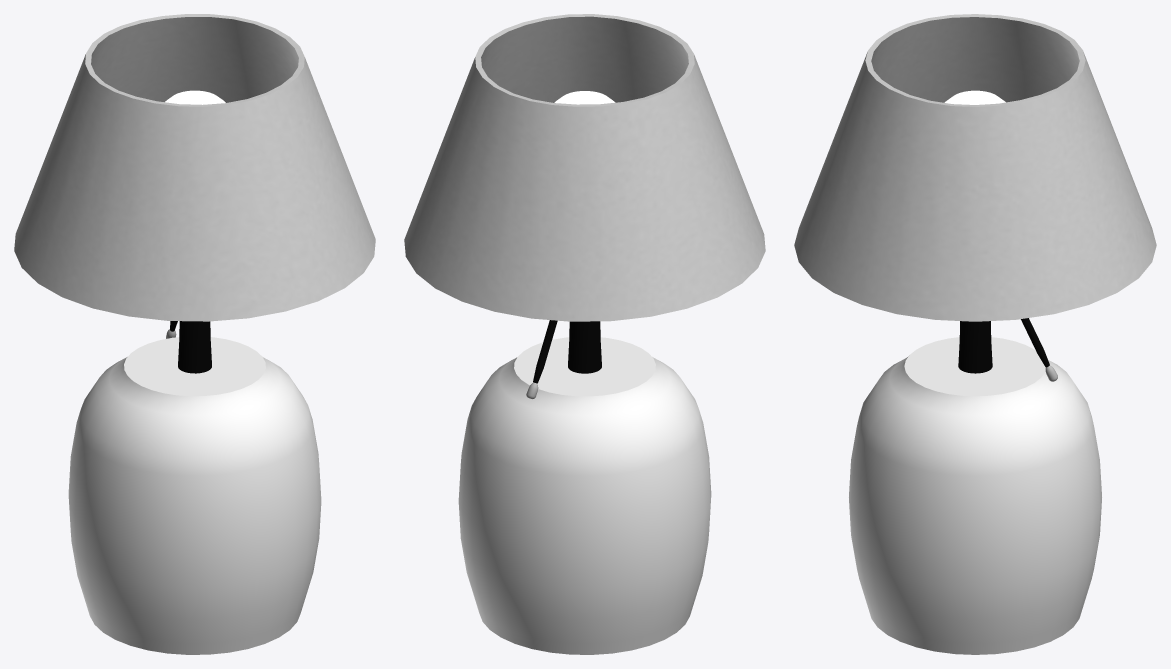
File: bedside_table_lamp.glb
3 views of the same model, side by side, from view 1: azimuth 30°, elevation 25°; view 2: azimuth 150°, elevation 25°; view 3: azimuth 270°, elevation 25° (orthographic).
Parts seen in each view (by area): view 1: Cylinder.001, Cylinder, Cylinder.002, Cylinder.003; view 2: Cylinder.001, Cylinder, Cylinder.002, Cylinder.004, Cylinder.003; view 3: Cylinder.001, Cylinder, Cylinder.002, Cylinder.003, Cylinder.004.
Boxes of the visible parts, box(x1,y1,x2,y2) form: Cylinder.001: box(14, 14, 375, 321); Cylinder: box(68, 337, 321, 654); Cylinder.002: box(178, 321, 211, 373); Cylinder.003: box(165, 90, 225, 104); Cylinder.001: box(404, 14, 765, 321); Cylinder: box(458, 337, 711, 654); Cylinder.002: box(568, 321, 601, 373); Cylinder.004: box(526, 320, 557, 399); Cylinder.003: box(554, 91, 615, 104); Cylinder.001: box(794, 14, 1156, 321); Cylinder: box(849, 337, 1101, 654); Cylinder.002: box(958, 321, 992, 373); Cylinder.003: box(944, 90, 1005, 104); Cylinder.004: box(1021, 318, 1057, 381).
Size of the model in its own units: 3.66 by 6.13 by 3.66.
Materials: 8 (8 with a texture image).
